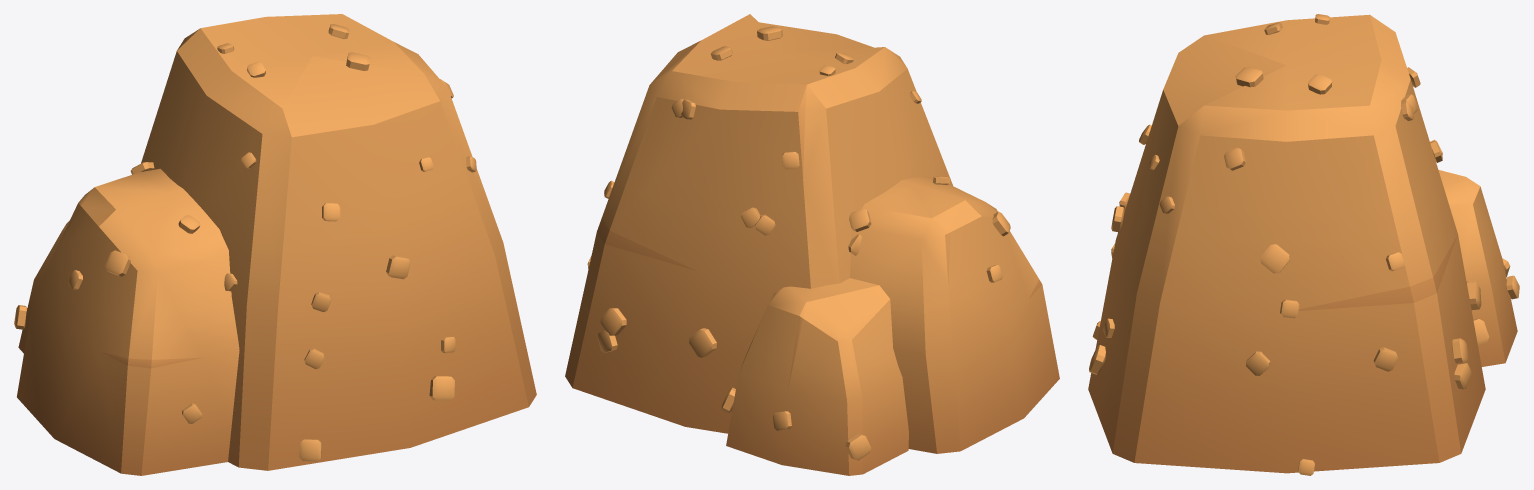
File: GoldSource2.fbx
3 views of the same model, side by side, from view 1: azimuth 30°, elevation 25°; view 2: azimuth 150°, elevation 25°; view 3: azimuth 270°, elevation 25° (orthographic). The views are drawn at different scales.
Visible parts, largest first — view 1: GoldSource2_LOD0; view 2: GoldSource2_LOD0; view 3: GoldSource2_LOD0.
Part boxes in pixels (x1,y1,x2,y2): GoldSource2_LOD0: (14, 14, 536, 475); GoldSource2_LOD0: (565, 14, 1059, 475); GoldSource2_LOD0: (1088, 14, 1519, 475).
Size of what is drawn, in the model's own units: 2.9 by 2.16 by 2.48.
